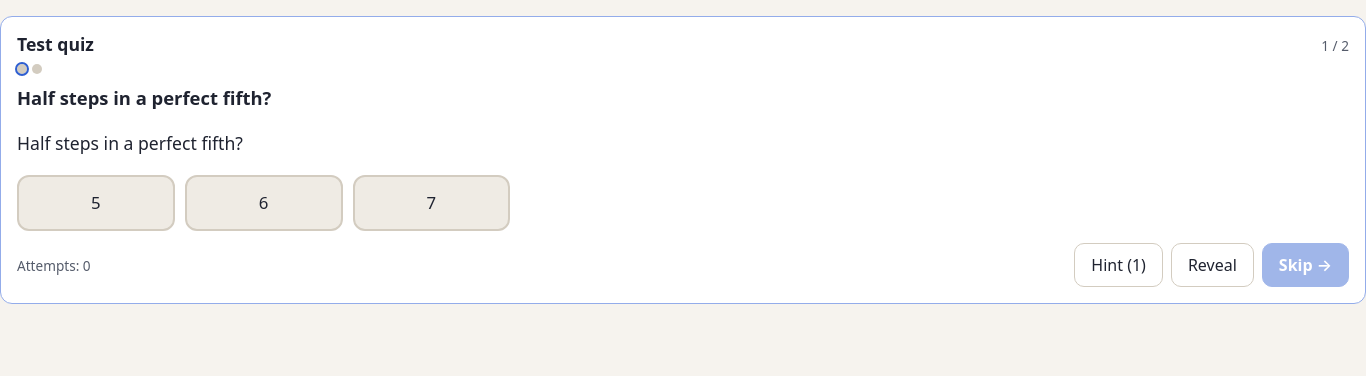
Test: ExerciseShell › does not record when record=false and supports reveal
Click the button "Reveal".
click(1212, 265)  # box x1=1171 y1=243 x2=1254 y2=287
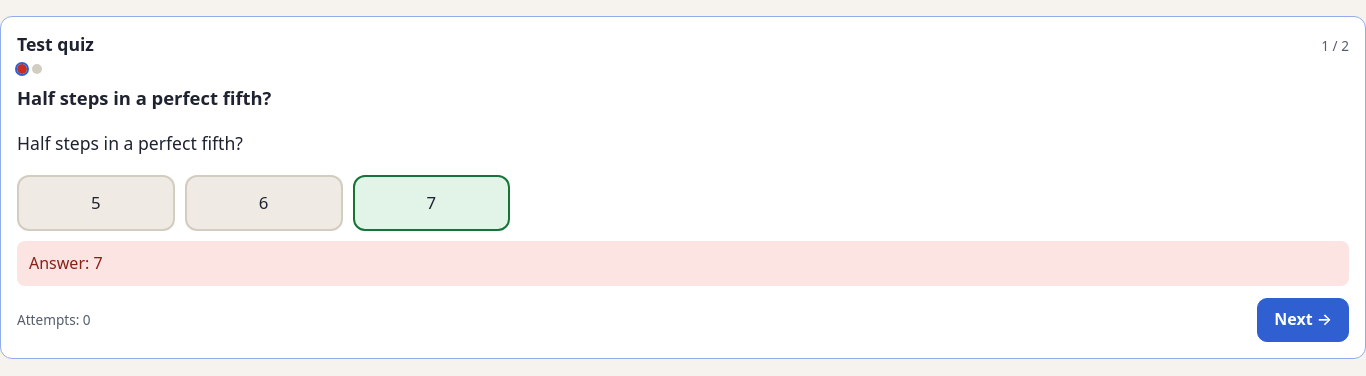
Expected: the message reads "Answer: 7", x1=29 y1=252 x2=103 y2=274
